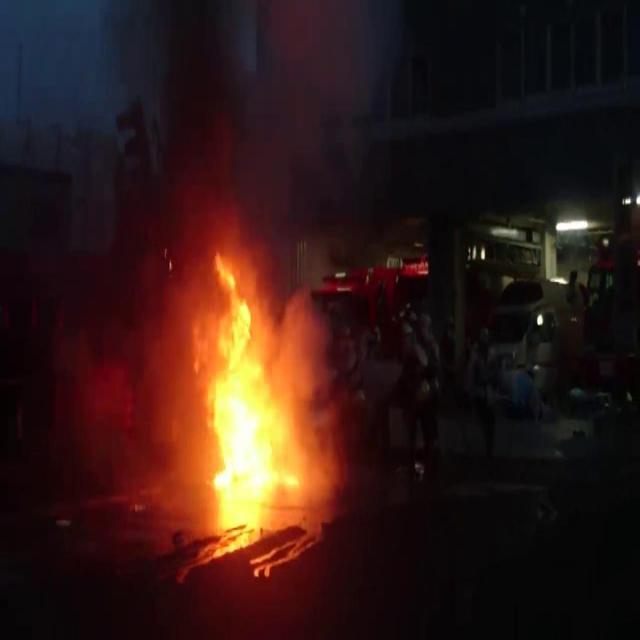Fire: (208, 254, 310, 493)
